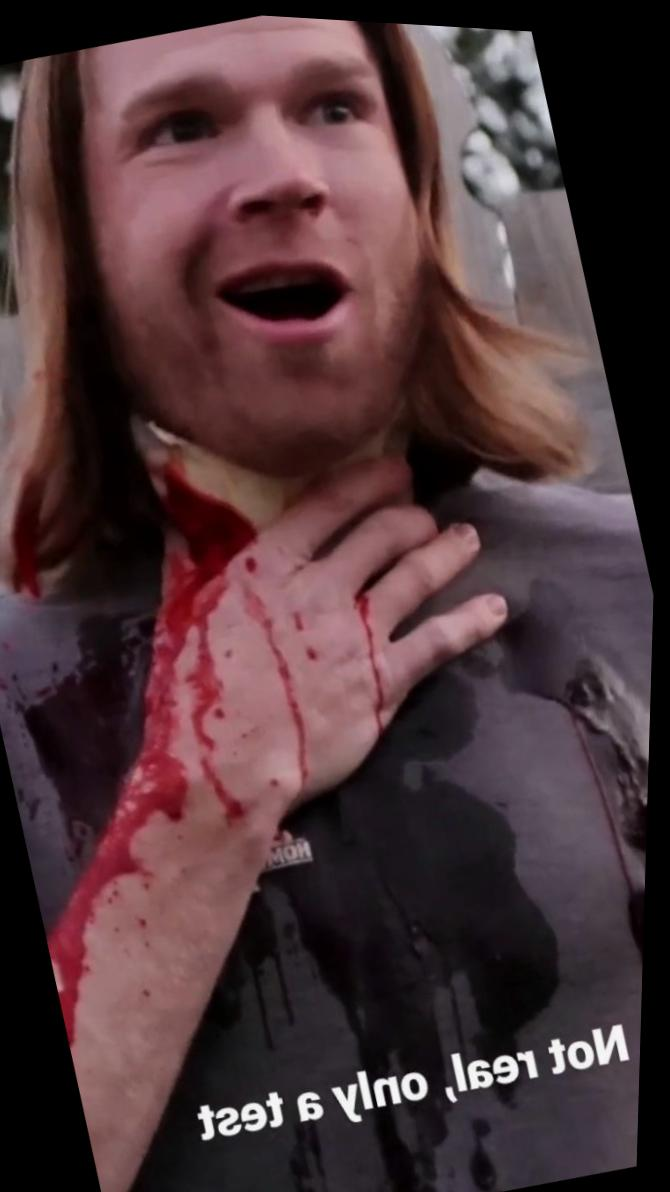Fire: (29, 472, 338, 1084), (0, 478, 79, 596), (360, 588, 394, 731)
